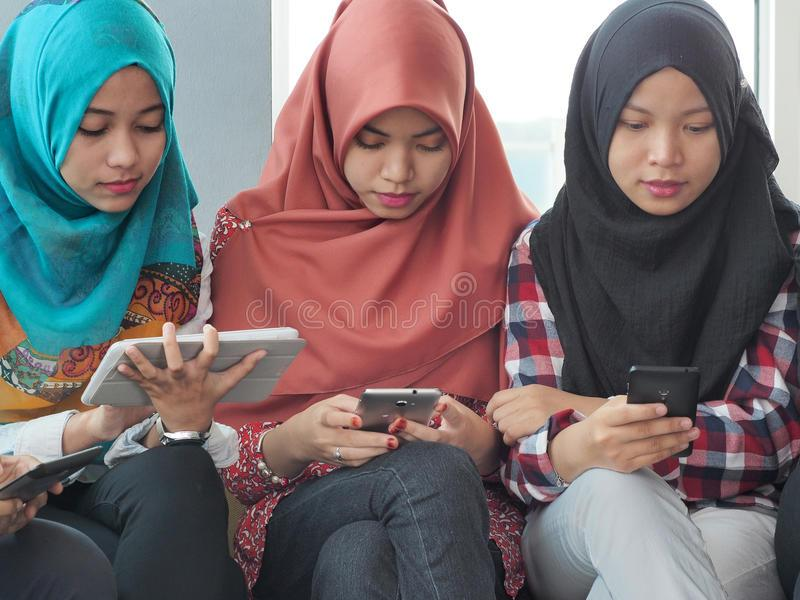No Mask: (547, 48, 794, 311), (294, 25, 501, 262), (33, 28, 214, 252)
